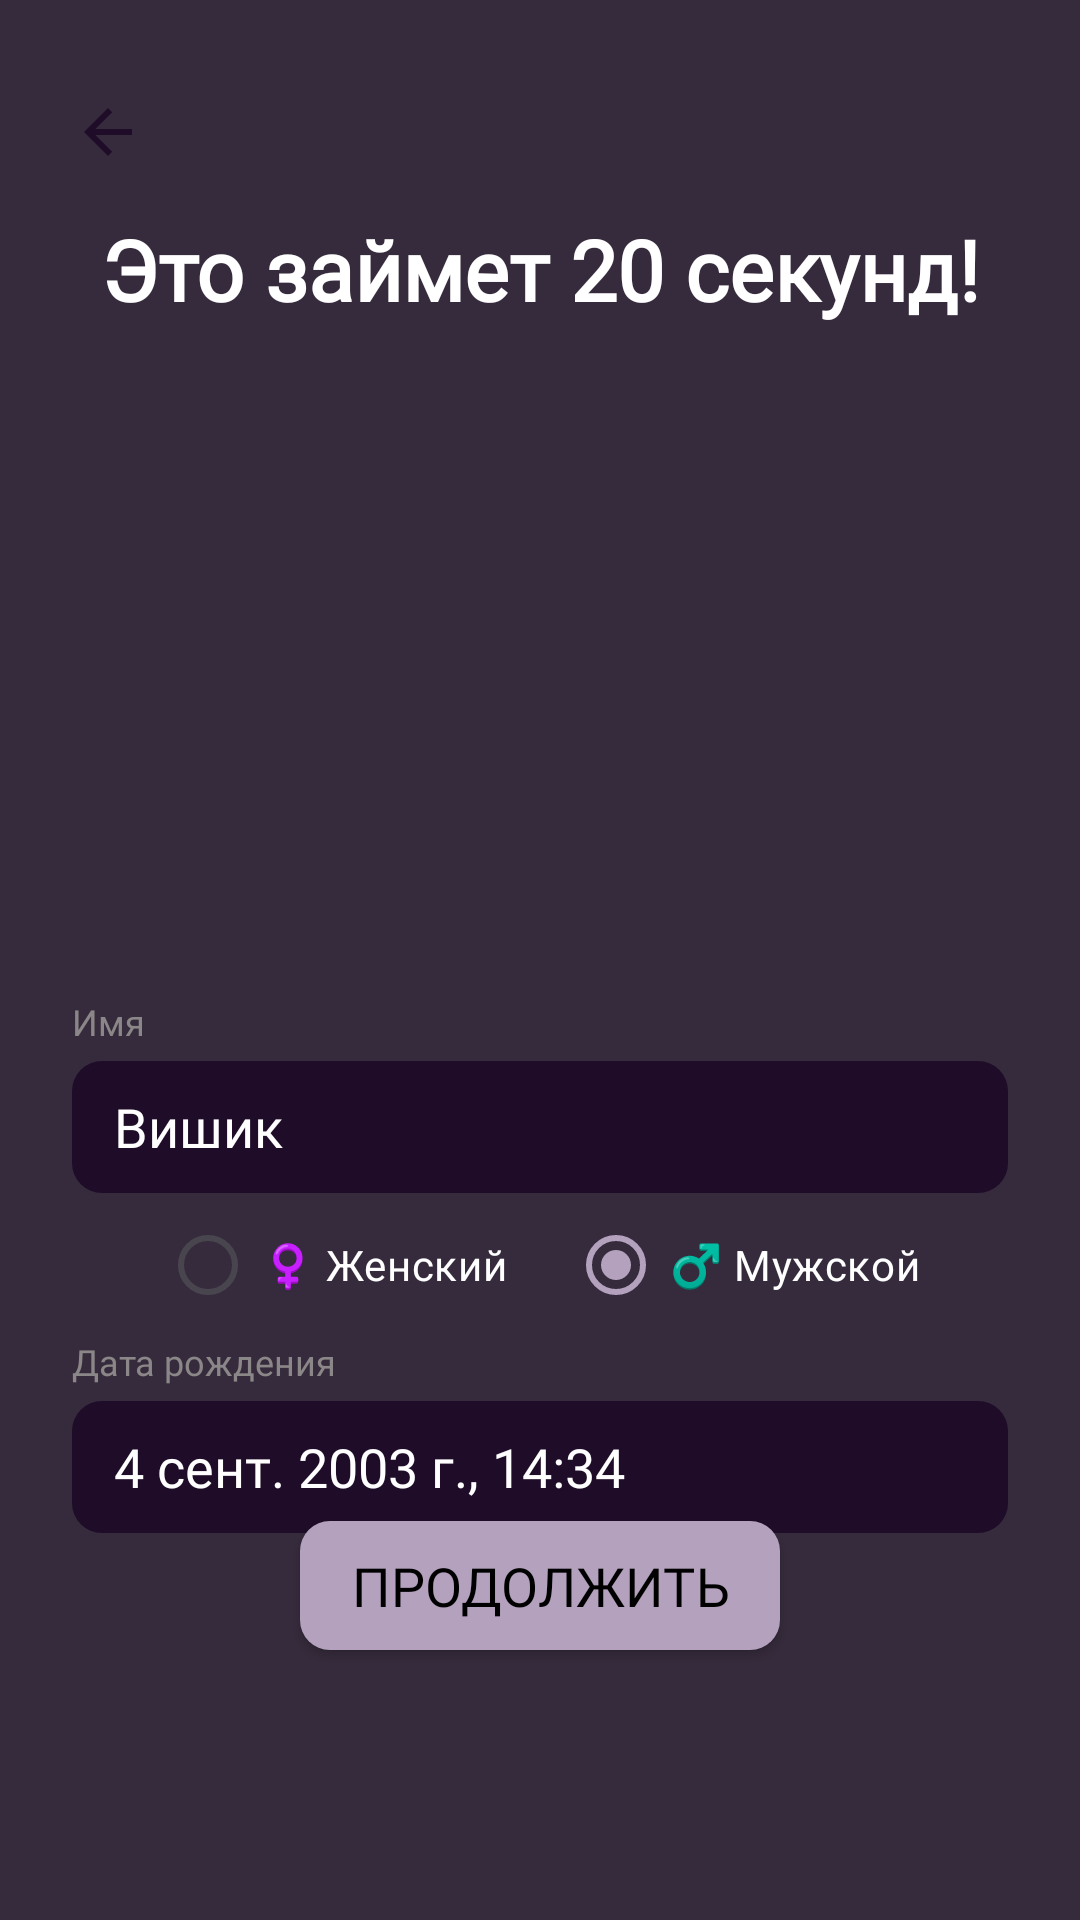

Where to tap for icons on this 1080x1920 app screen, as (x,y):
arrow back: (108,132)
